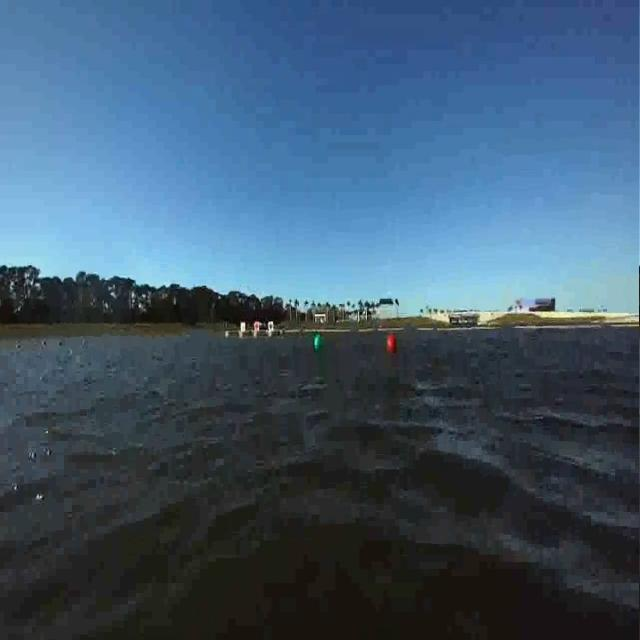green-buoy: (313, 331, 325, 356)
red-buoy: (386, 336, 394, 353)
